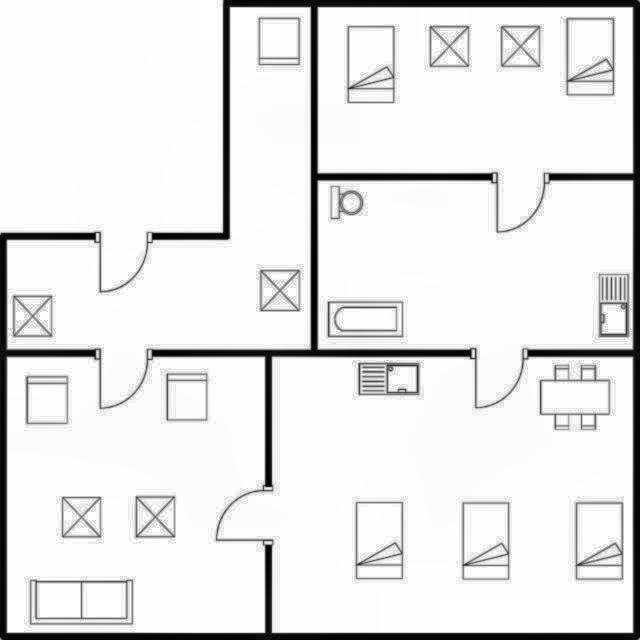room: (7, 7, 311, 350), (272, 356, 633, 634), (7, 357, 265, 633), (318, 180, 634, 350), (317, 6, 634, 174)
